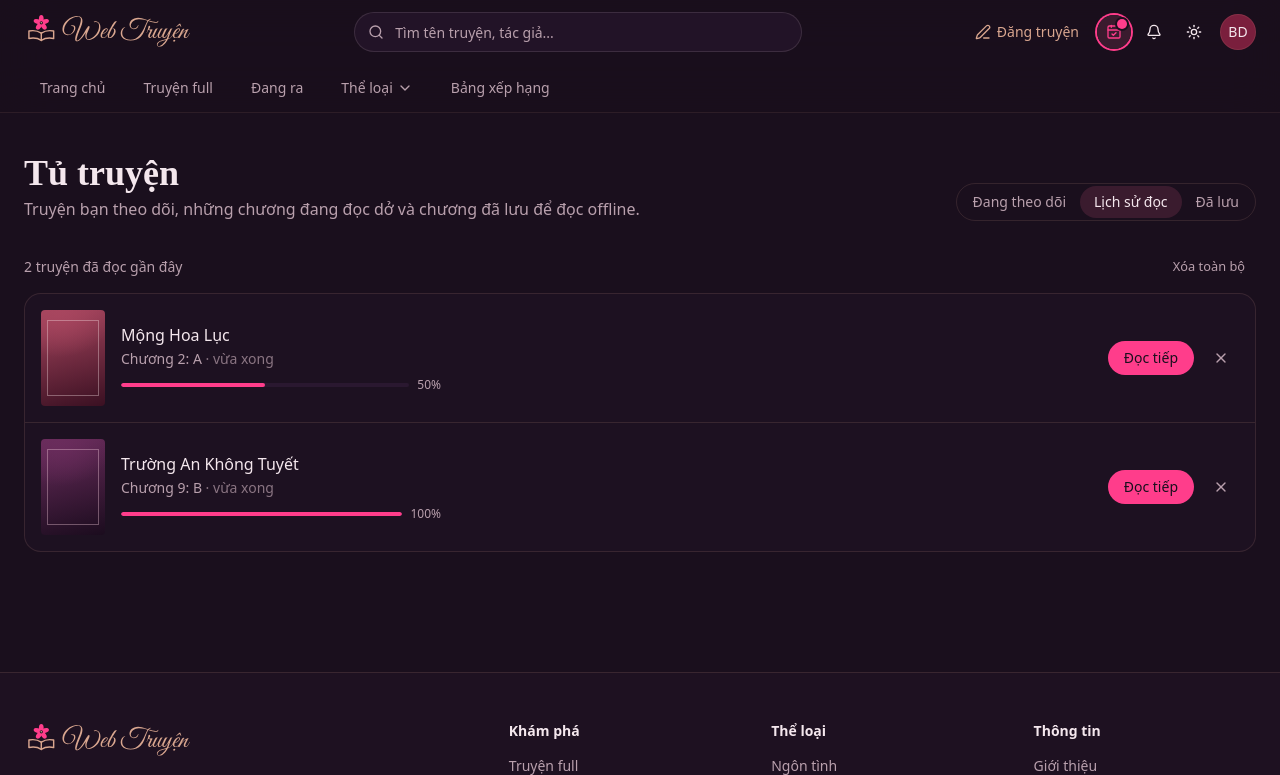
Test: lịch sử: xóa một truyện, xóa toàn bộ phải xác nhận
Expected: the text "50%" is shown, [417, 377, 441, 393]
Step 1. Click the button named "Xóa Mộng Hoa Lục khỏi lịch sử" → (1221, 358), box [1203, 340, 1239, 376]
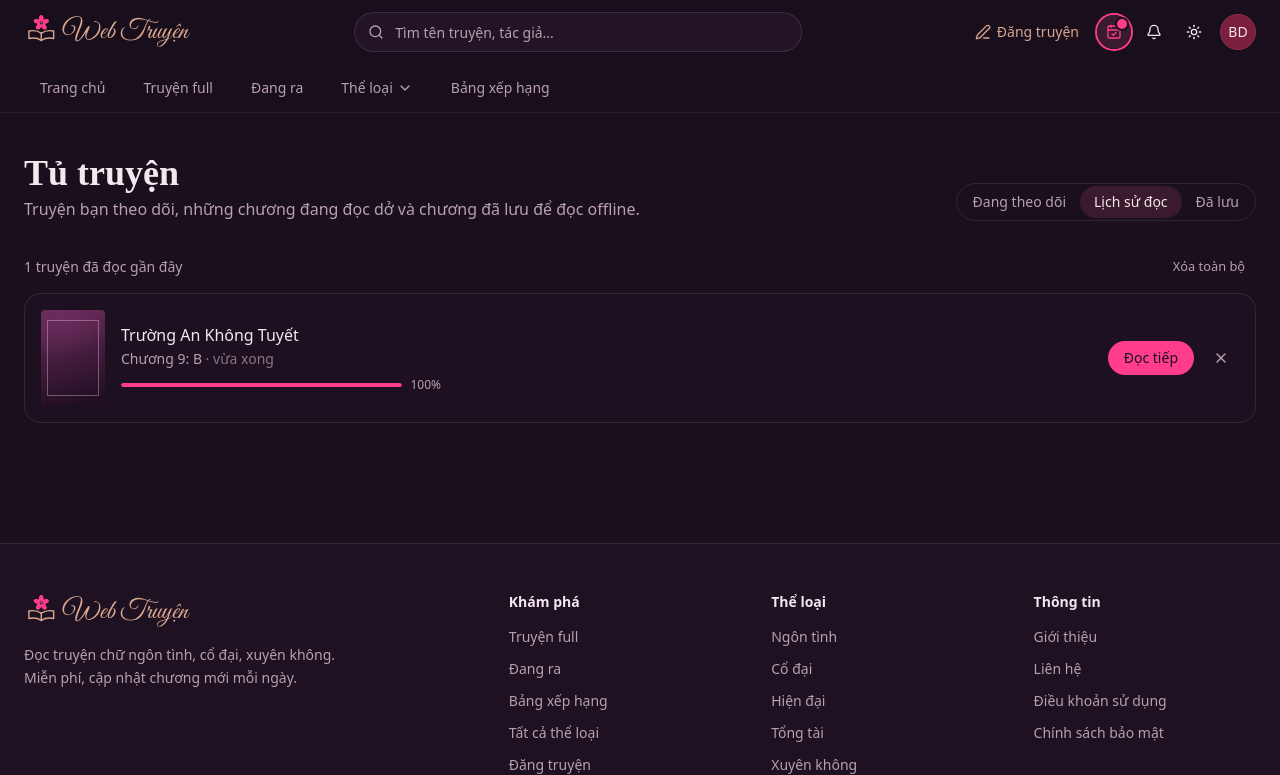
Step 2. Click the button "Xóa toàn bộ" → (1209, 267), box [1162, 253, 1256, 281]
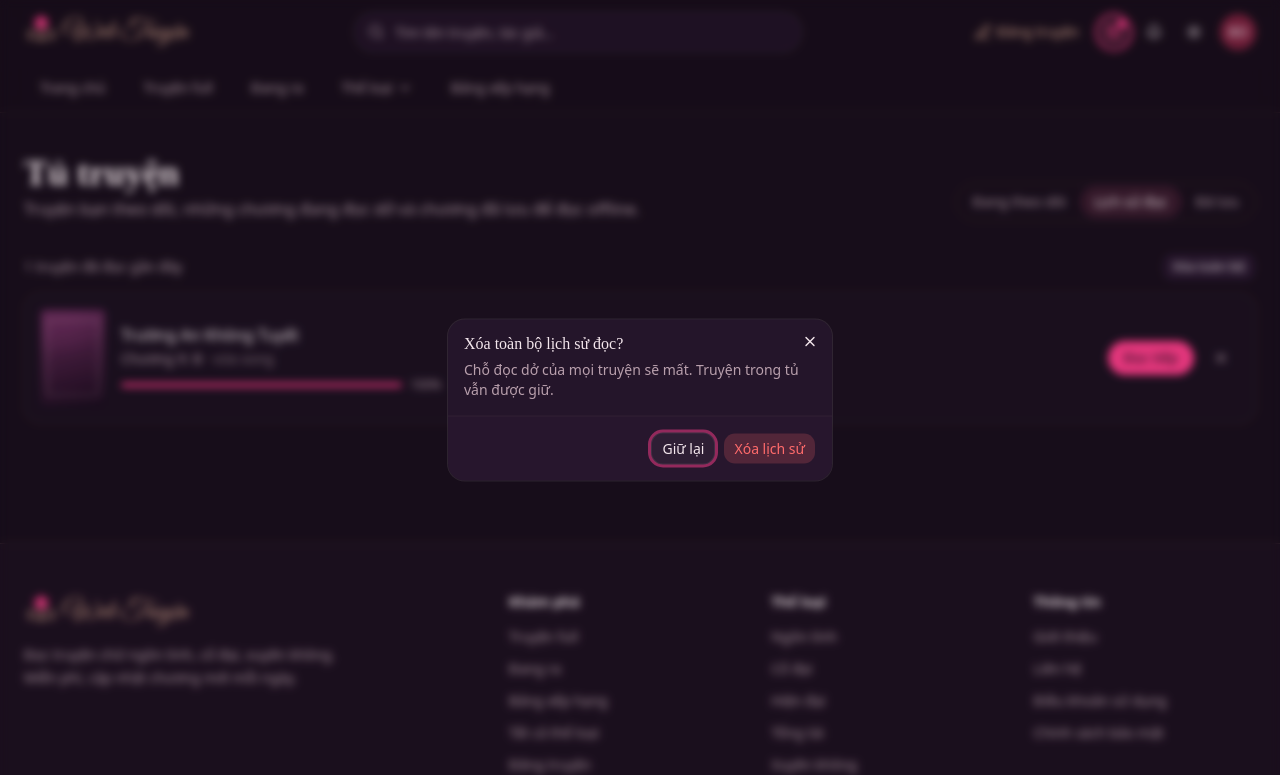
Step 3. Click the button "Xóa lịch sử" → (770, 448), box [724, 432, 816, 464]
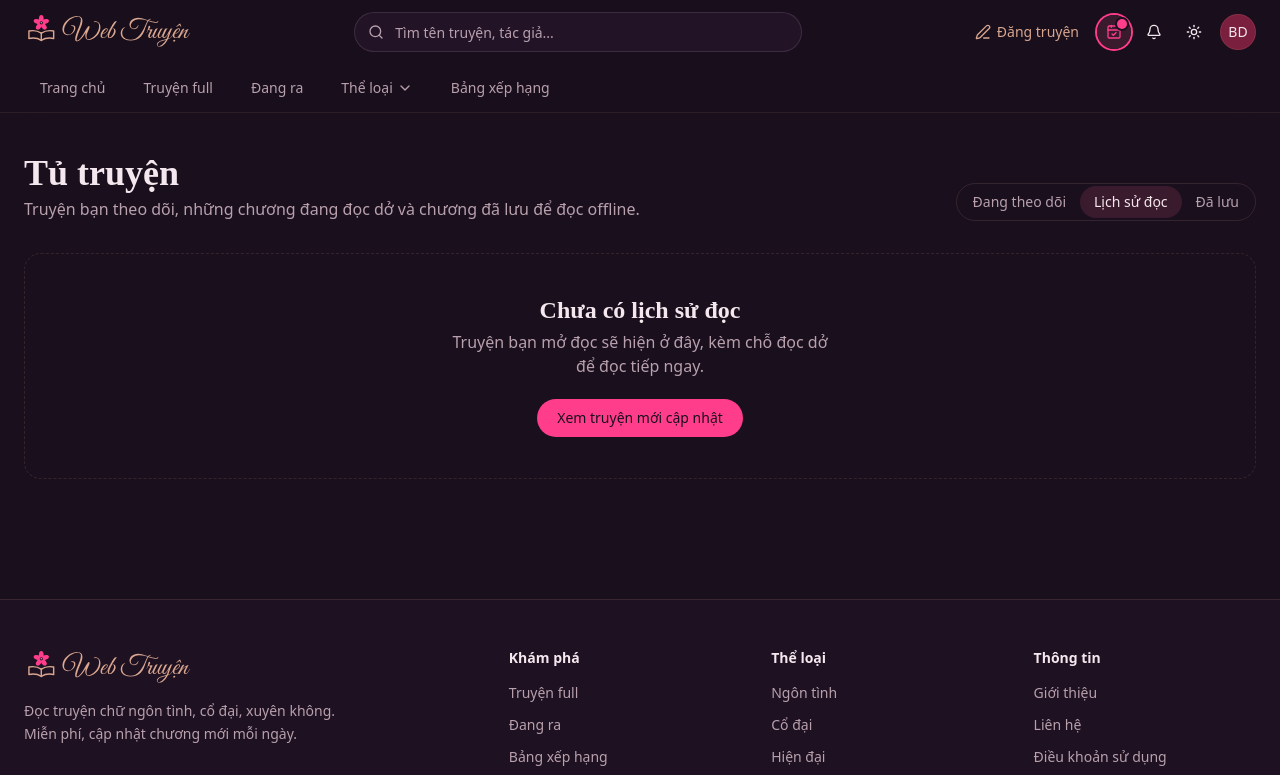
Expected: the text "Chưa có lịch sử đọc" is shown, [540, 297, 740, 323]
